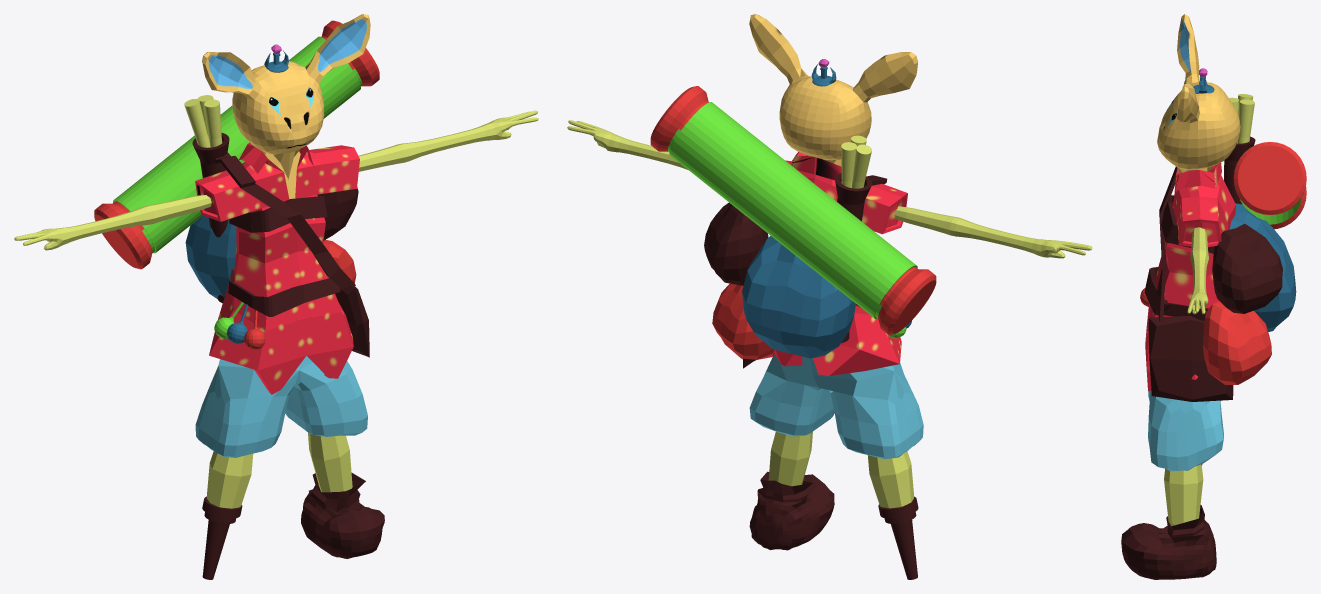
The model's file is animal-4.glb.
3 renders of one model, left to right at view 1: azimuth 30°, elevation 25°; view 2: azimuth 150°, elevation 25°; view 3: azimuth 270°, elevation 25°, orthographic. The views are drawn at different scales.
Visible parts, largest first — view 1: animal; view 2: animal; view 3: animal.
Boxes of the visible parts, <box> form: animal: <box>14,14,538,579</box>; animal: <box>567,14,1092,579</box>; animal: <box>1121,14,1306,579</box>.
Size of the model in its own units: 7.29 by 7.02 by 2.34.
13 materials, 2 textured.
